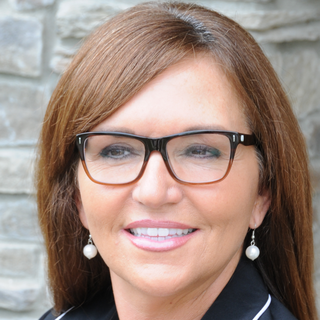eye: (92, 142, 146, 165), (172, 142, 224, 165)
